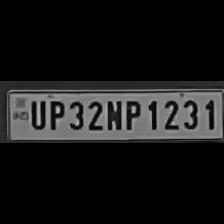1: (142, 97, 160, 131), (200, 96, 218, 130)
2: (84, 97, 104, 130), (160, 97, 178, 131)
3: (180, 96, 198, 130), (65, 97, 83, 130)
N: (104, 97, 122, 131)
P: (122, 97, 142, 131), (46, 97, 64, 130)
U: (26, 98, 44, 130)
